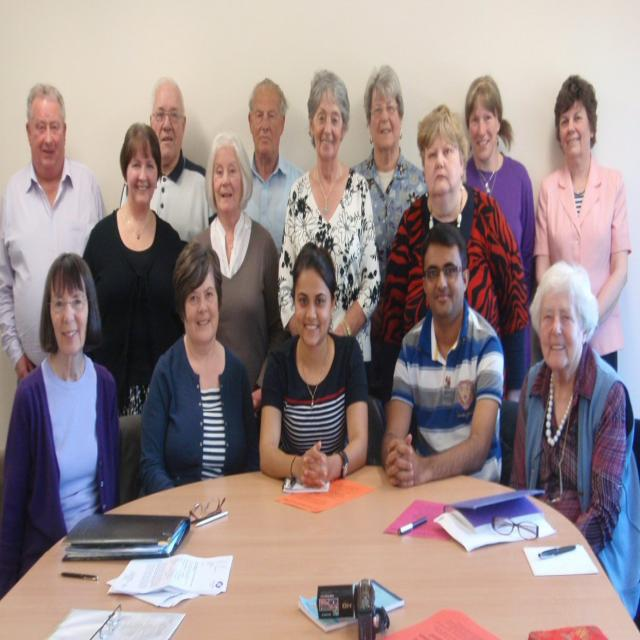body: (378, 102, 526, 488), (506, 258, 640, 624), (0, 250, 125, 600), (276, 66, 383, 402), (80, 120, 191, 414), (0, 82, 108, 384), (382, 223, 504, 489), (530, 71, 632, 381), (138, 238, 260, 496), (258, 241, 370, 491), (192, 130, 284, 419), (463, 74, 537, 393), (348, 64, 428, 342), (117, 73, 217, 253), (242, 78, 308, 258)
